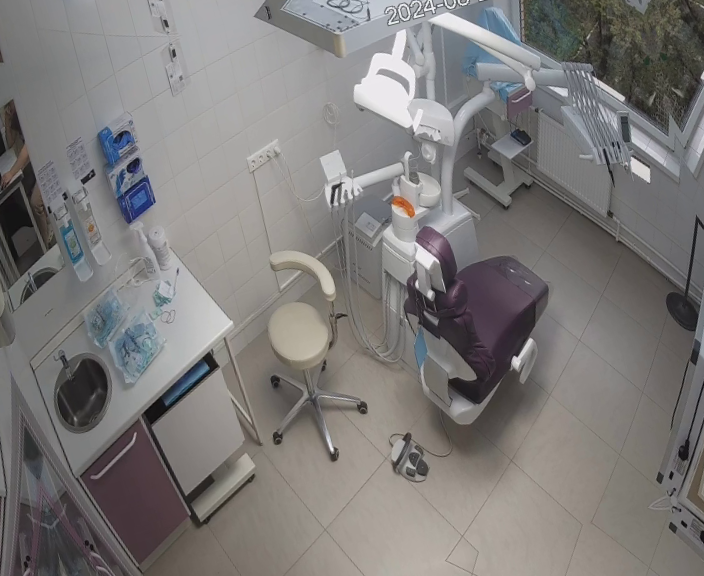Empty: (363, 194, 580, 440)
